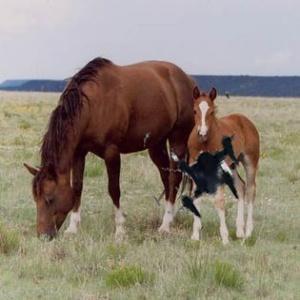drone: (136, 98, 269, 231)
